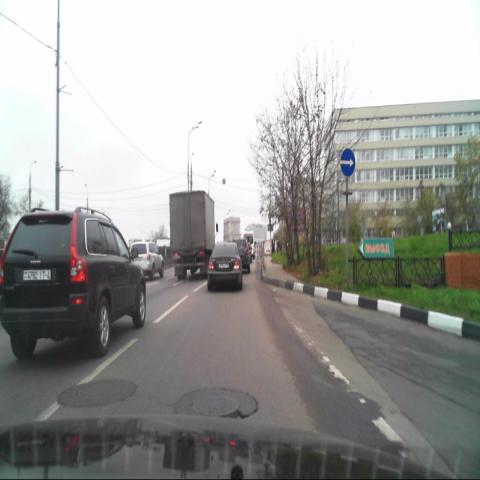4_1_2_1: (340, 148, 356, 178)
